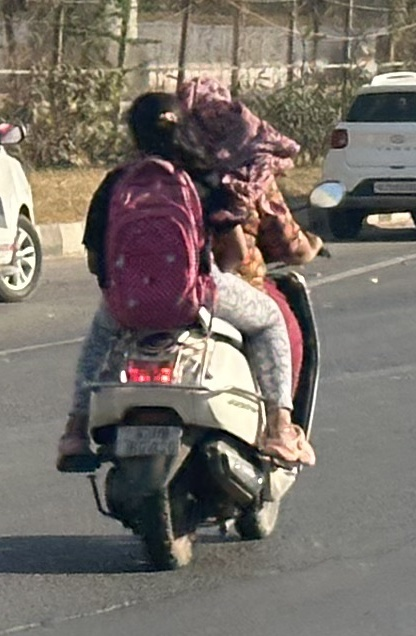BikeWithRider: (45, 66, 345, 577)
NoHelmet: (114, 84, 194, 173), (170, 70, 248, 145)
